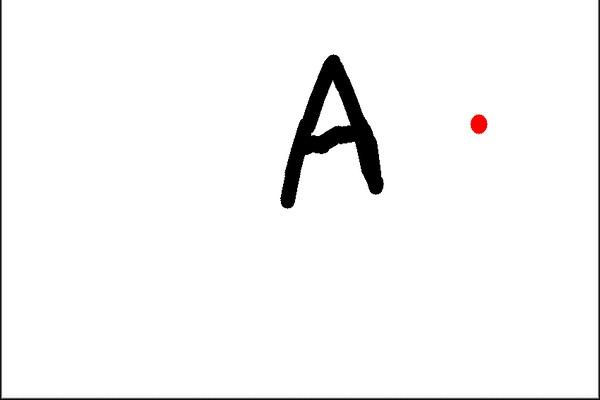A: (267, 46, 398, 213)
